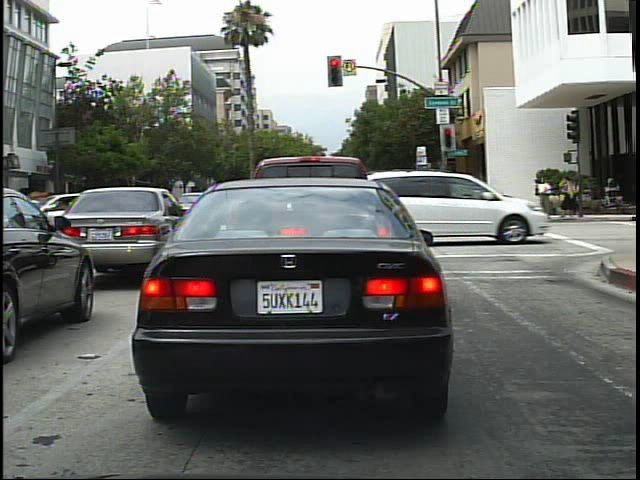person: (536, 171, 559, 221), (560, 171, 582, 222)
